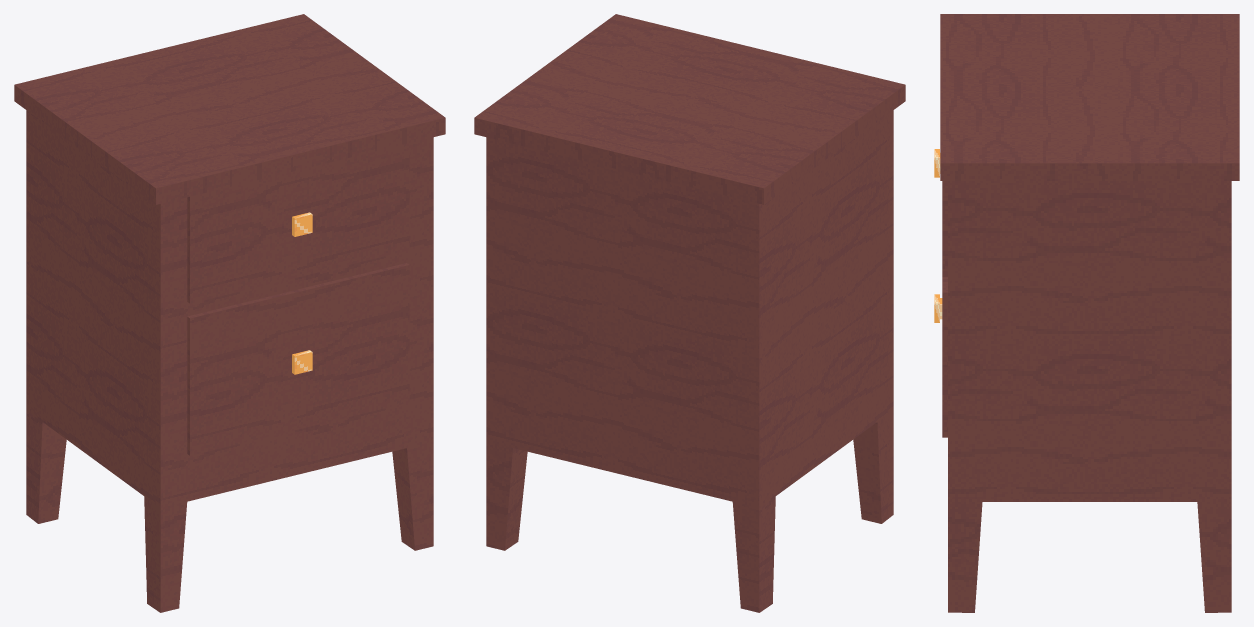
The model's file is nightStand.glb.
The picture shows the model from 3 angles, left to right: view 1: azimuth 30°, elevation 25°; view 2: azimuth 150°, elevation 25°; view 3: azimuth 270°, elevation 25°; orthographic projection. The views are drawn at different scales.
Parts seen in each view (by area): view 1: NightStand; view 2: NightStand; view 3: NightStand.
Part boxes in pixels (<box>): NightStand: <box>14,14,445,612</box>; NightStand: <box>474,14,905,612</box>; NightStand: <box>940,14,1239,612</box>.
Size of the model in its own units: 0.4984 by 0.7056 by 0.4305.
Materials: 2 (2 with a texture image).
